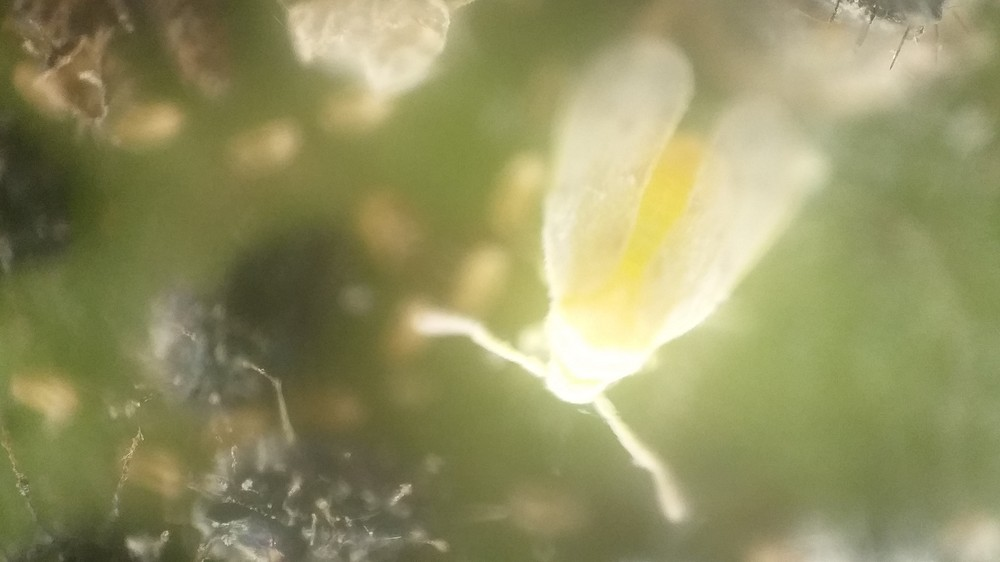Mosca Blanca: (408, 41, 842, 527)
